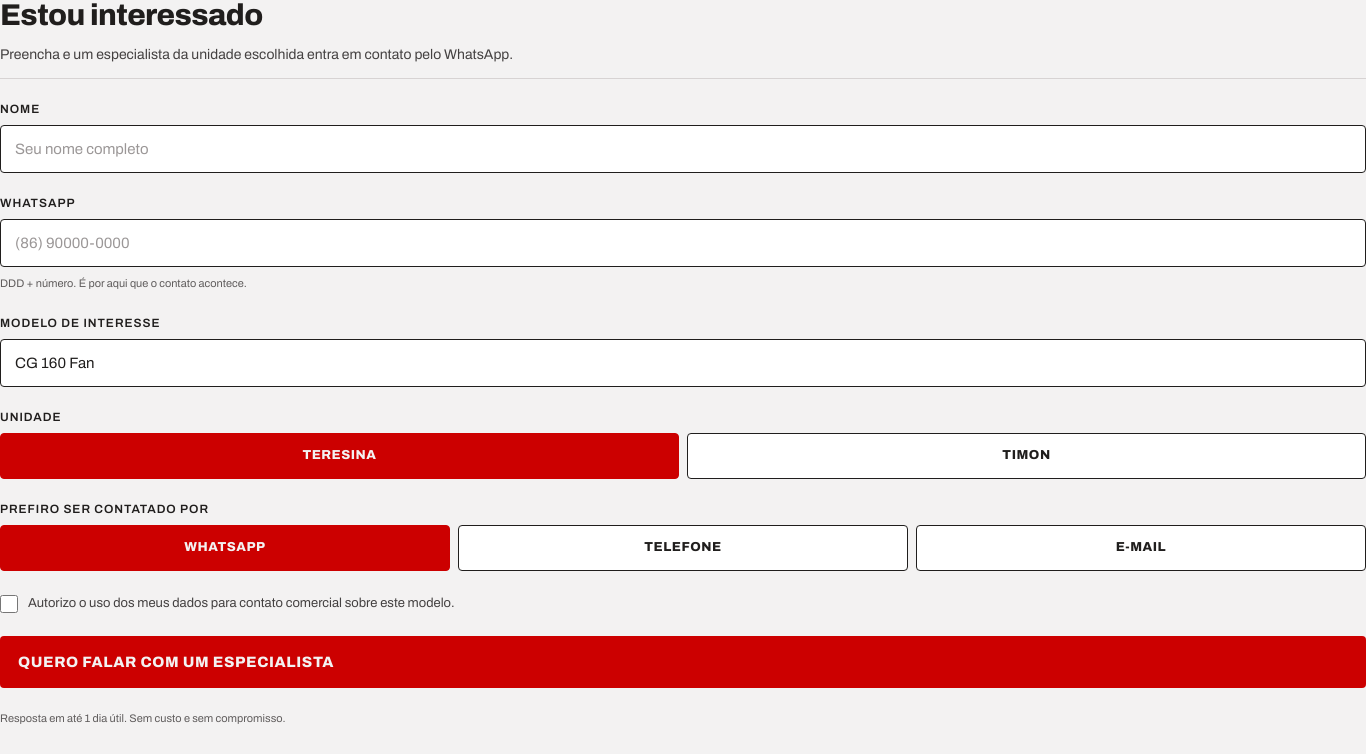
Test case: validação no cliente › some com o erro do campo assim que a pessoa corrige
The width and height of the screenshot is (1366, 754).
Click the button "Quero falar com um especialista" at (176, 662), box [0,636,1365,688]
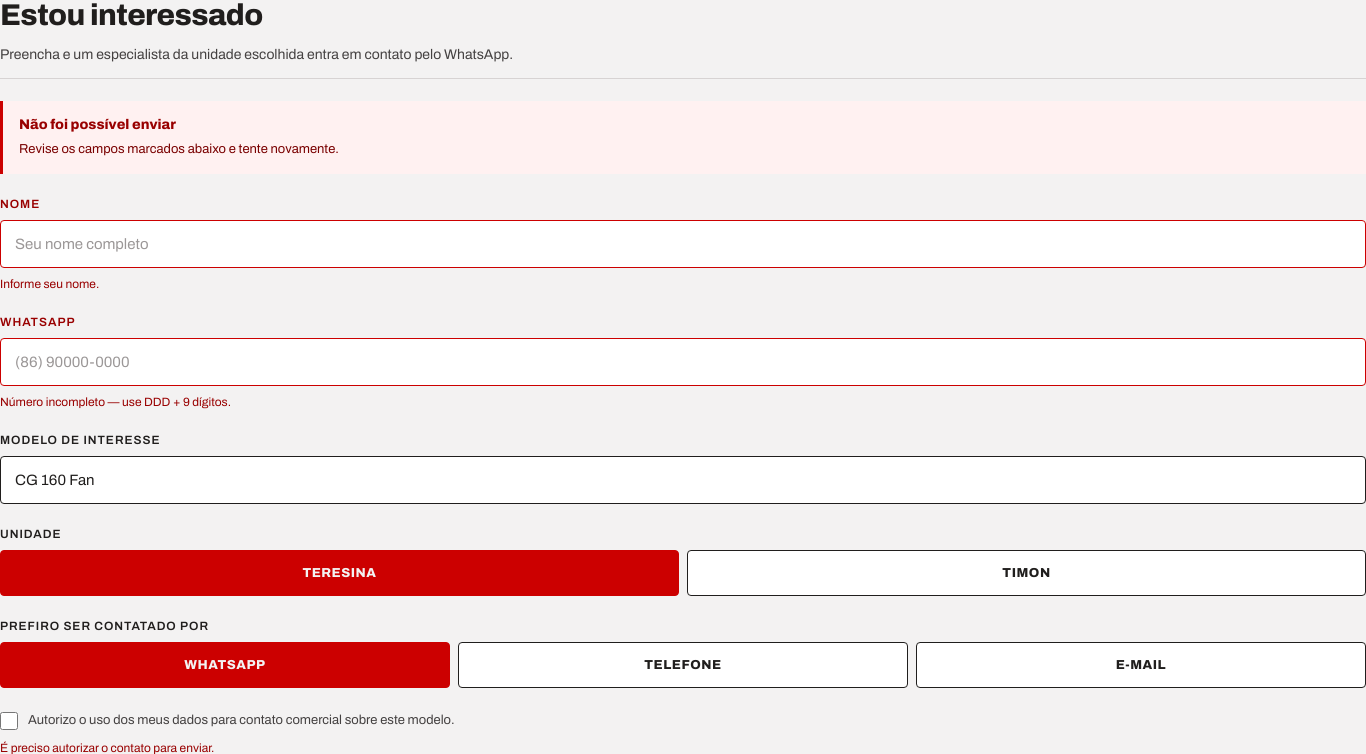
Result: the text "Informe seu nome." is shown at [0,277,99,291]
Type "R" into the field labelled "Nome" at (683, 244), box [0,220,1365,268]
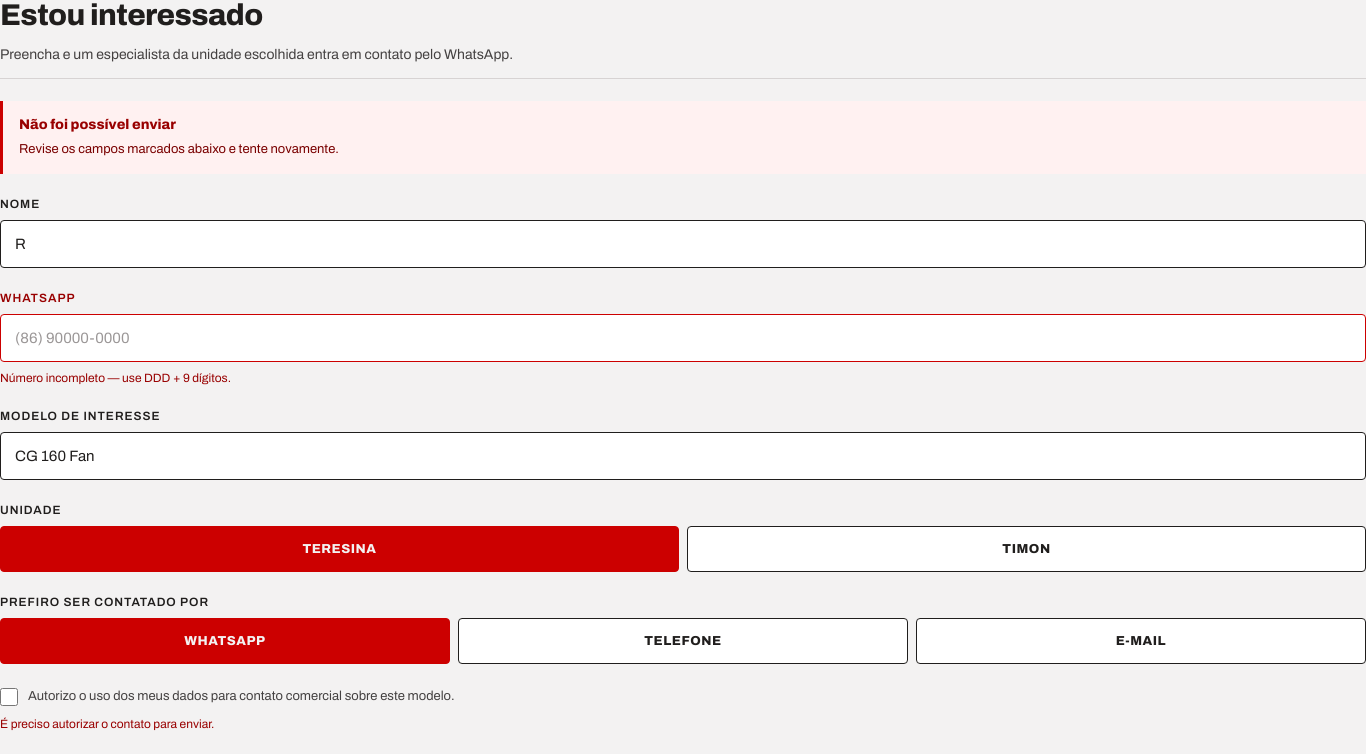
Result: the text "Número incompleto — use DDD + 9 dígitos." is shown at [0,371,231,385]
Result: the text "Informe seu nome." is gone
